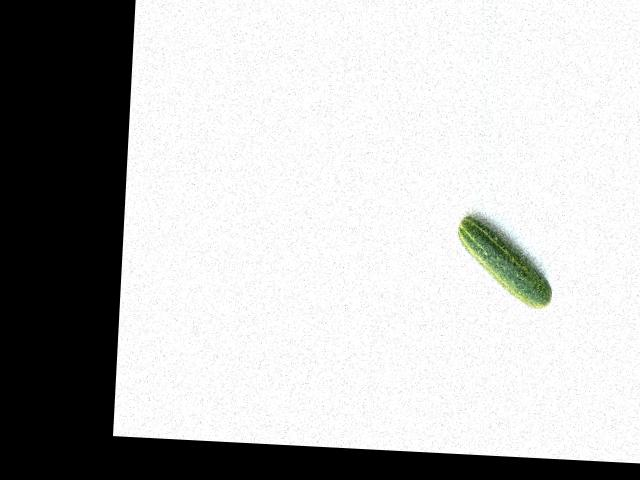cucumber: (453, 215, 555, 310)
